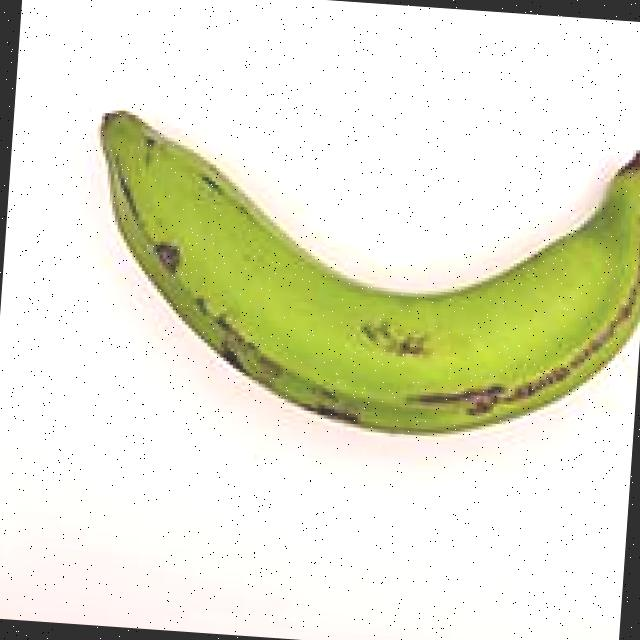Raw: (50, 53, 640, 486)
